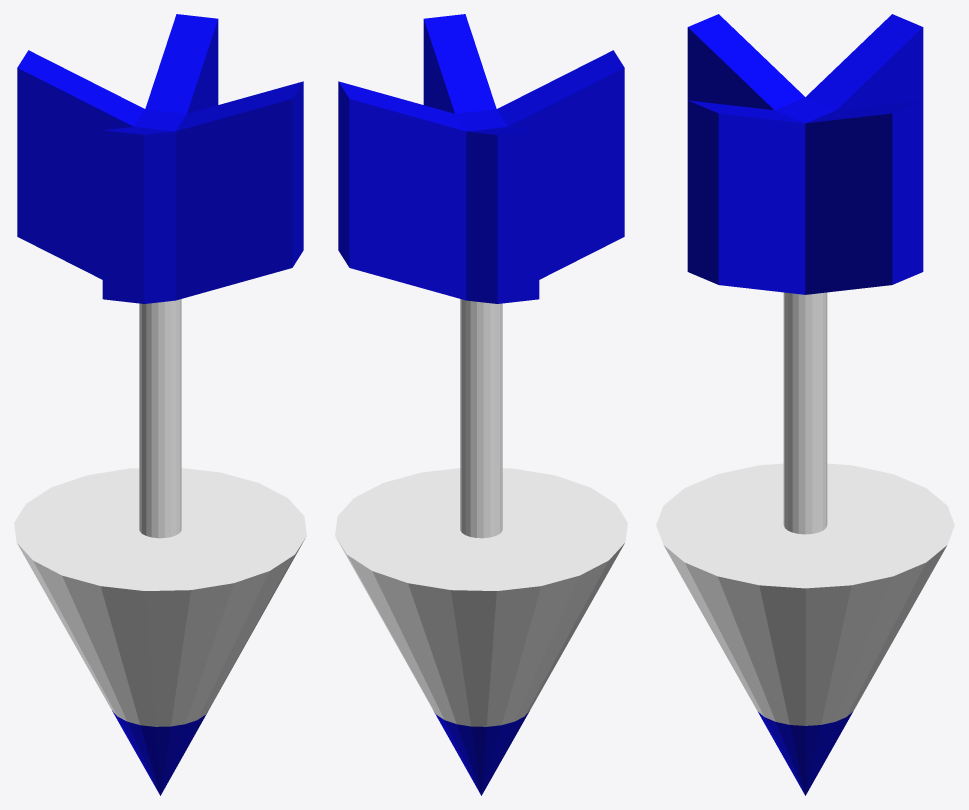
Rendered from arrow.glb.
3 views of the same model, side by side, from view 1: azimuth 30°, elevation 25°; view 2: azimuth 150°, elevation 25°; view 3: azimuth 270°, elevation 25° (orthographic).
Parts seen in each view (by area): view 1: Cone; view 2: Cone; view 3: Cone.
Part boxes in pixels (x1=…): Cone: x1=14, y1=14, x2=306, y2=795; Cone: x1=335, y1=14, x2=627, y2=795; Cone: x1=656, y1=14, x2=954, y2=795.
Bounding box in the file's own units: 0.016 × 0.0432 × 0.016.
